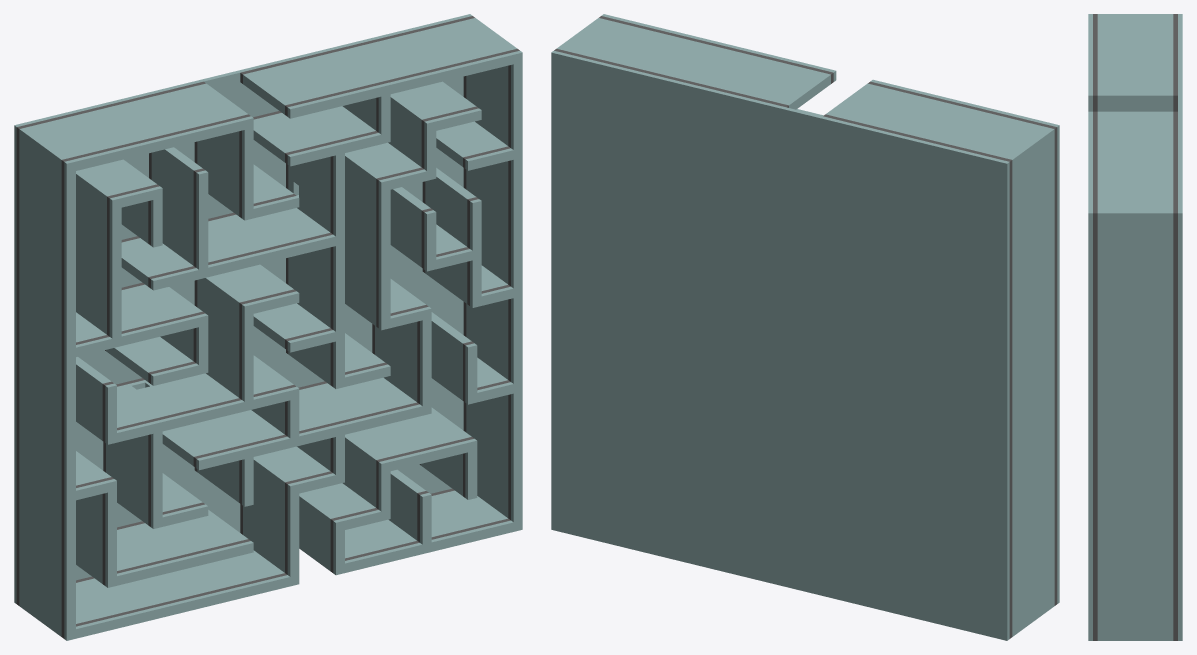
Rendered from Maze.obj.
3 views of the same model, side by side, from view 1: azimuth 30°, elevation 25°; view 2: azimuth 150°, elevation 25°; view 3: azimuth 270°, elevation 25° (orthographic). The views are drawn at different scales.
Parts seen in each view (by area): view 1: Maze; view 2: Maze; view 3: Maze.
Boxes of the visible parts, x1,y1,x2,y2 form: Maze: (14,14,522,640); Maze: (551,14,1059,640); Maze: (1088,14,1182,640).
Size of the model in its own units: 100 by 100 by 20.
1 material, 1 textured.
